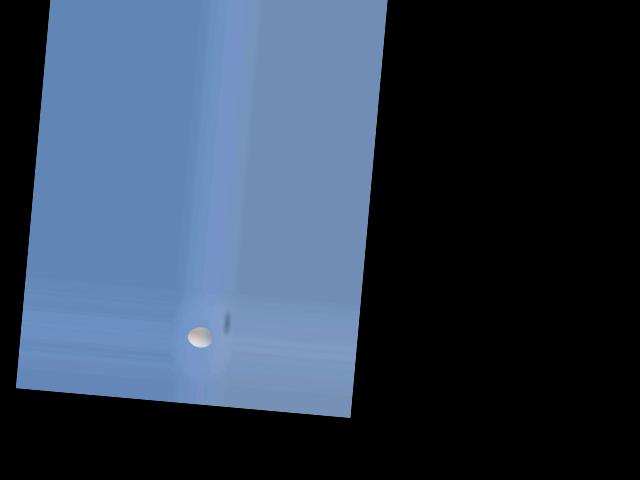egg: (187, 326, 214, 348)
